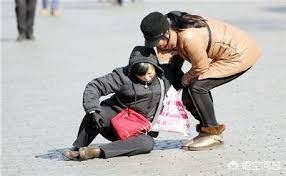falling: (54, 43, 174, 166)
